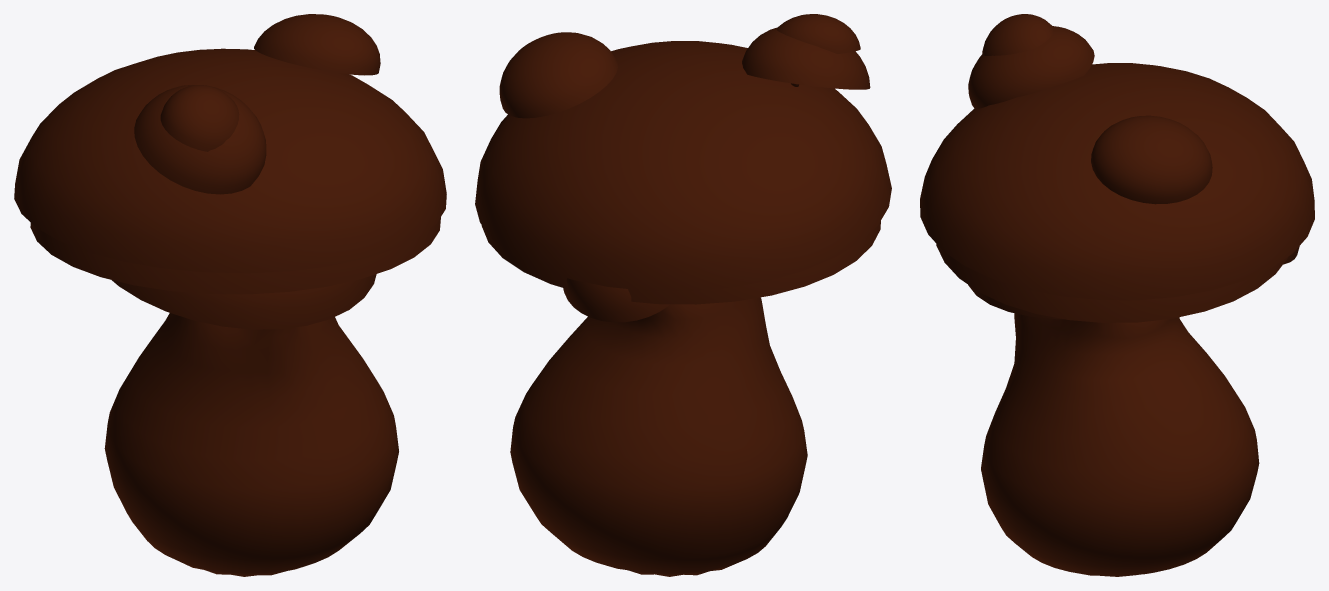
Rendered from SM_blockout_tree02.fbx.
3 renders of one model, left to right at view 1: azimuth 30°, elevation 25°; view 2: azimuth 150°, elevation 25°; view 3: azimuth 270°, elevation 25°, orthographic. The views are drawn at different scales.
Visible parts, largest first — view 1: Cylinder029; view 2: Cylinder029; view 3: Cylinder029.
Boxes of the visible parts, left/top/right/bottom form: Cylinder029: left=14, top=14, right=446, bottom=576; Cylinder029: left=475, top=14, right=891, bottom=576; Cylinder029: left=920, top=14, right=1314, bottom=576.
Bounding box in the file's own units: 792 × 1061 × 777.
